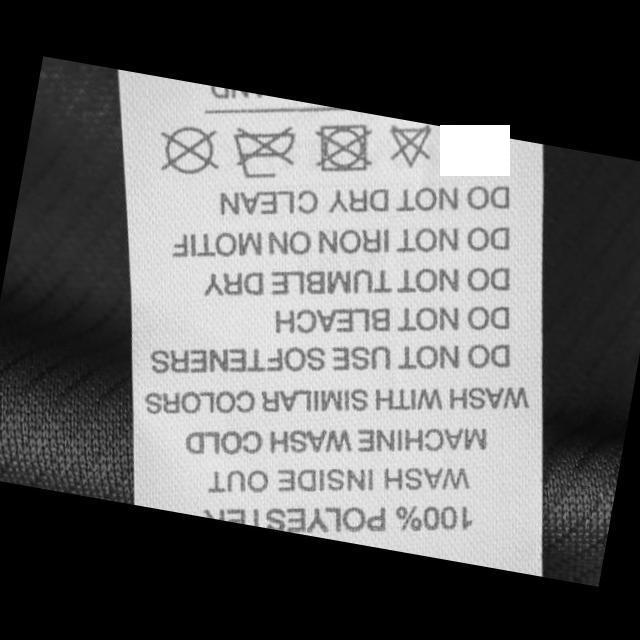DN_bleach: (379, 116, 437, 172)
DN_dry_clean: (150, 115, 226, 180)
DN_iron: (222, 112, 302, 186)
DN_tumble_dry: (306, 111, 380, 180)
